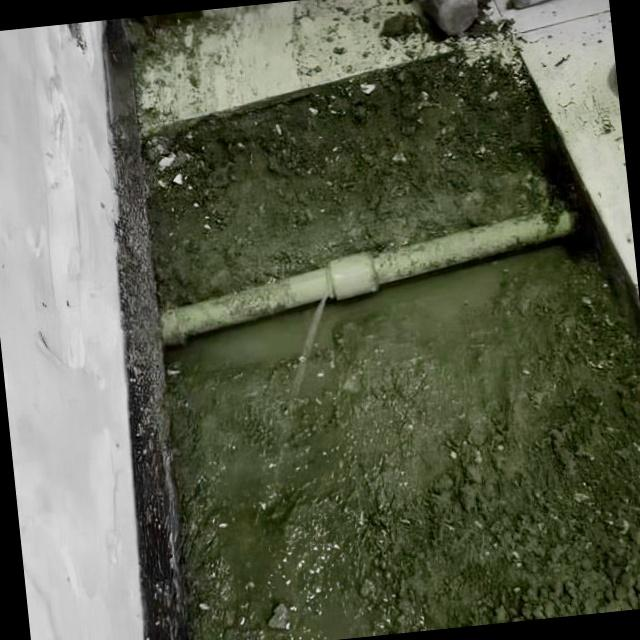Leak: (316, 285, 334, 317)
